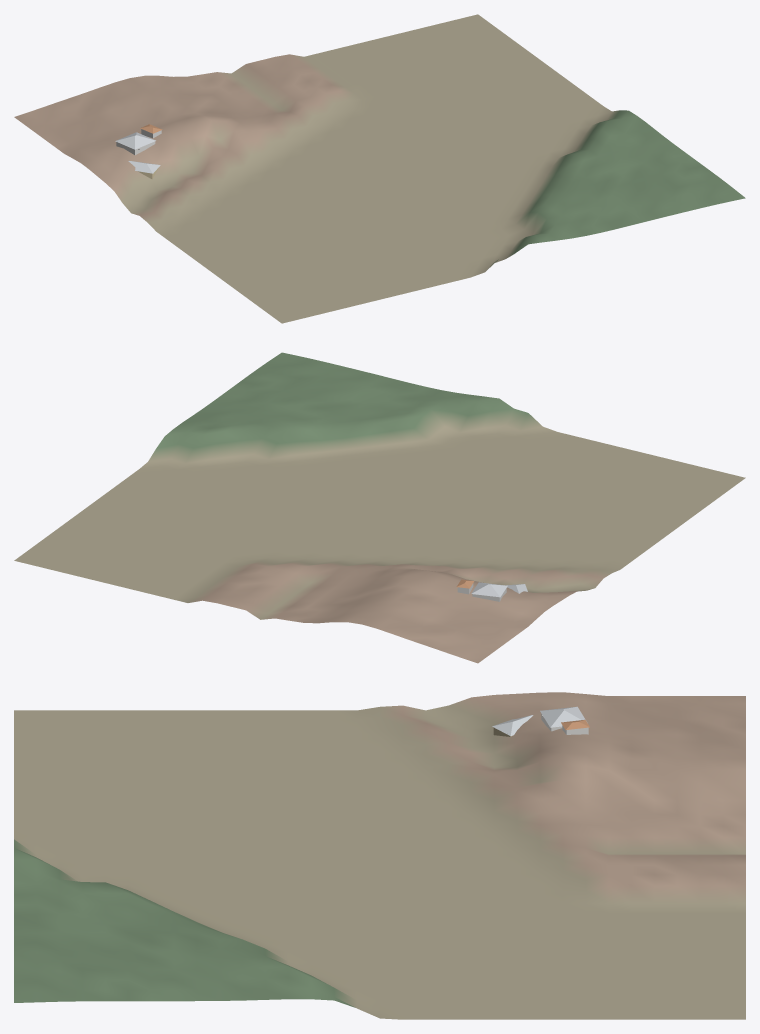
3 renders of one model, top to bottom at view 1: azimuth 30°, elevation 25°; view 2: azimuth 150°, elevation 25°; view 3: azimuth 270°, elevation 25°, orthographic. The views are drawn at different scales.
Visible parts, largest first — view 1: Terrain-col, Buildings-col; view 2: Terrain-col, Buildings-col; view 3: Terrain-col, Buildings-col.
Part boxes in pixels (x1,y1,x2,y2): Terrain-col: (14,14,745,323); Buildings-col: (115,124,162,179); Terrain-col: (14,352,745,663); Buildings-col: (456,579,527,601); Terrain-col: (14,692,745,1019); Buildings-col: (492,706,589,736).
Size of the model in its own units: 256 by 14.74 by 256.
